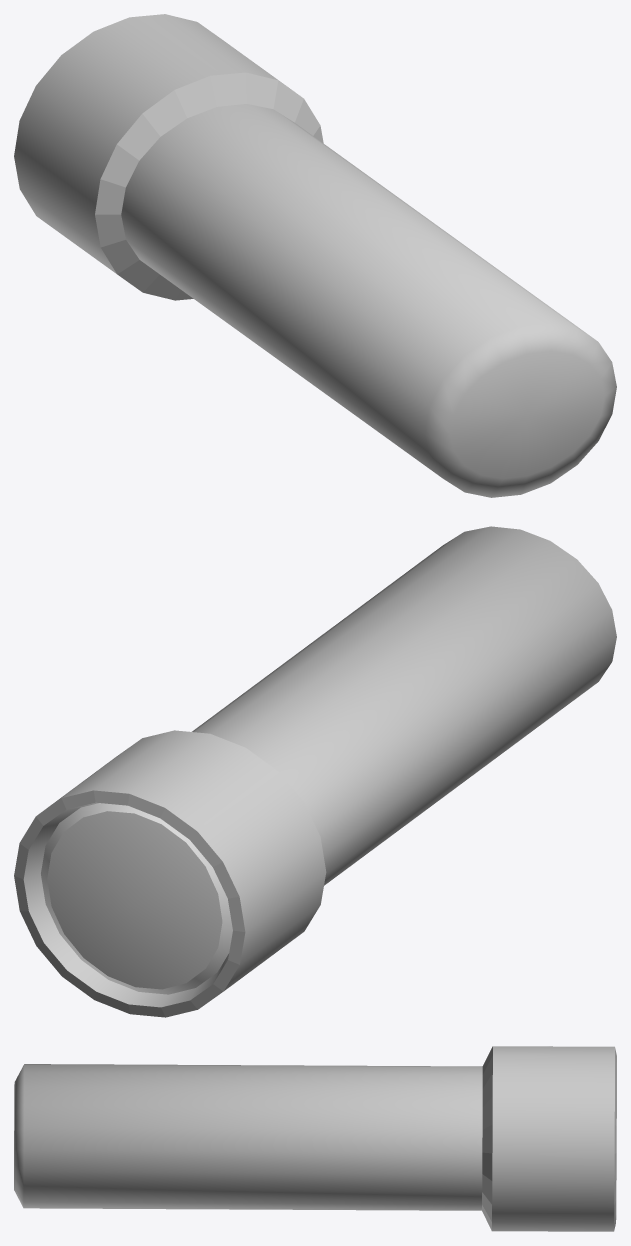
The model's file is flashlight.fbx.
3 renders of one model, top to bottom at view 1: azimuth 30°, elevation 25°; view 2: azimuth 150°, elevation 25°; view 3: azimuth 270°, elevation 25°, orthographic. The views are drawn at different scales.
Visible parts, largest first — view 1: pCylinder1; view 2: pCylinder1; view 3: pCylinder1.
Boxes of the visible parts, x1,y1,x2,y2 form: pCylinder1: [14, 14, 616, 497]; pCylinder1: [14, 526, 616, 1017]; pCylinder1: [14, 1046, 616, 1231].
Size of the model in its own units: 6.82 by 6.24 by 20.38.
